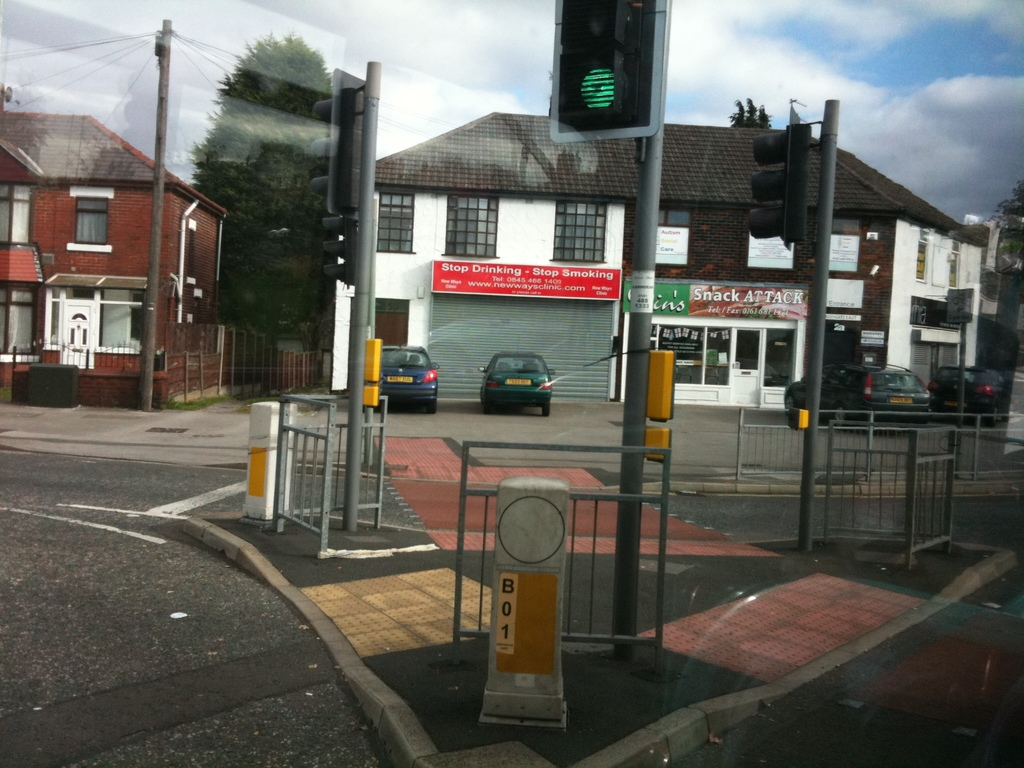green_light: (559, 1, 652, 133)
